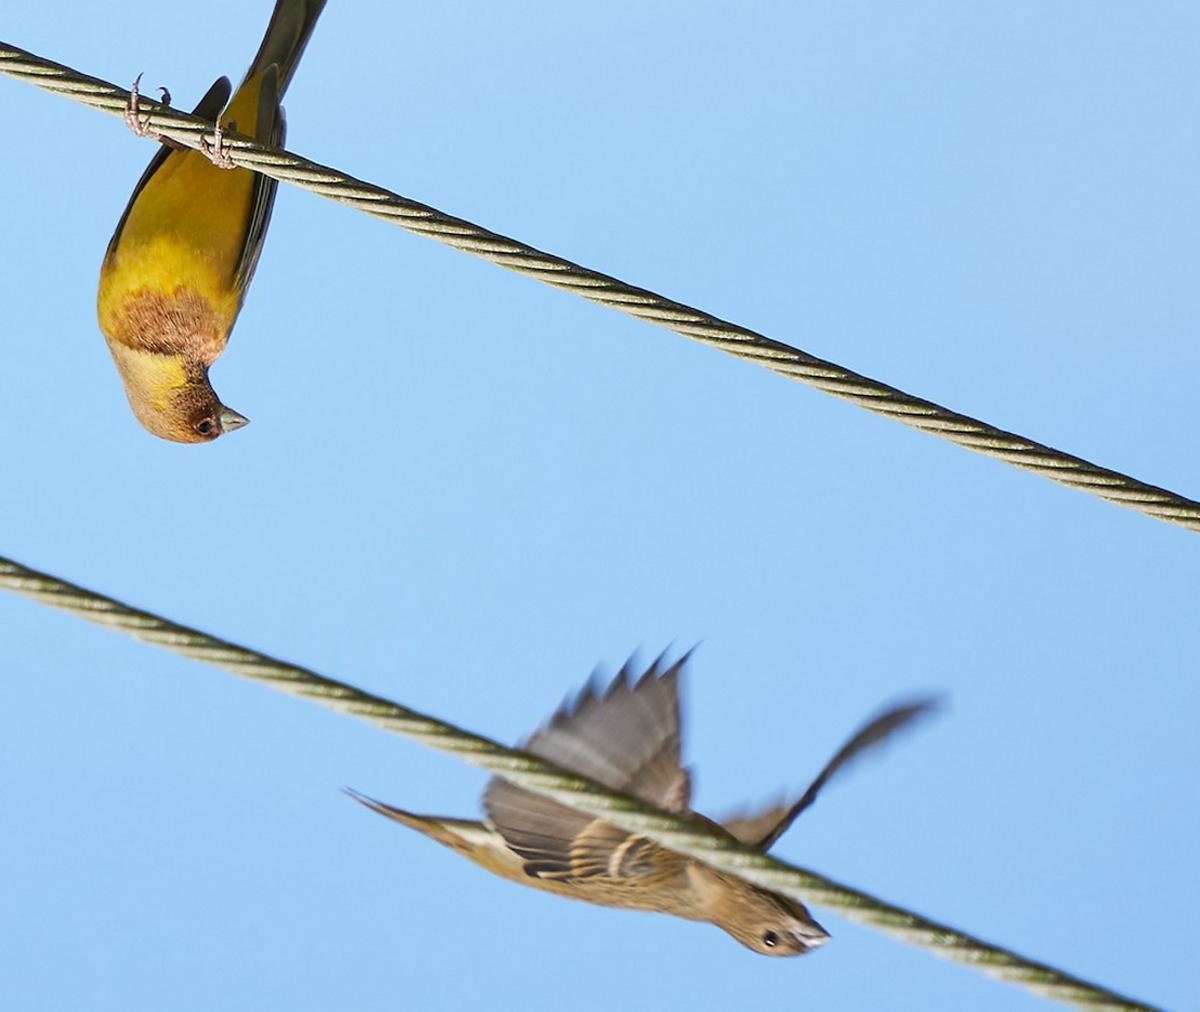rosefinch: (93, 43, 334, 460)
